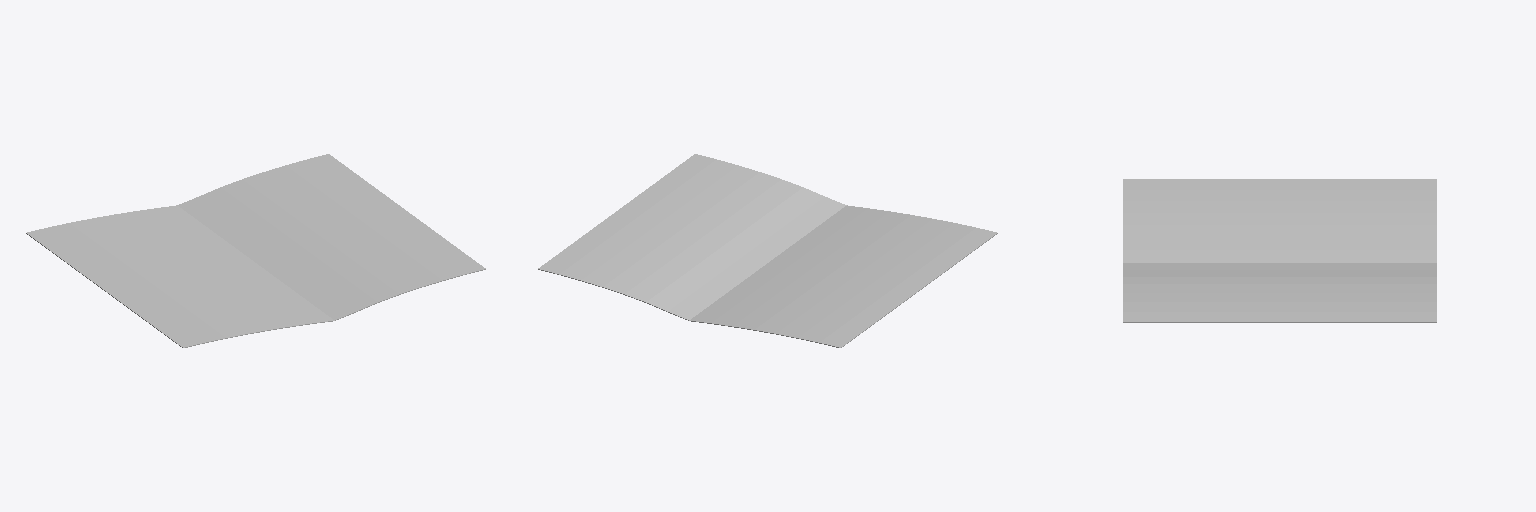
File: page-flat.obj
3 renders of one model, left to right at view 1: azimuth 30°, elevation 25°; view 2: azimuth 150°, elevation 25°; view 3: azimuth 270°, elevation 25°, orthographic.
Parts seen in each view (by area): view 1: Plane; view 2: Plane; view 3: Plane.
Part boxes in pixels (left/top/right/bottom): Plane: left=26, top=154, right=485, bottom=347; Plane: left=538, top=154, right=997, bottom=347; Plane: left=1123, top=179, right=1436, bottom=322.
Bounding box in the file's own units: 2.22 × 0.1071 × 2.